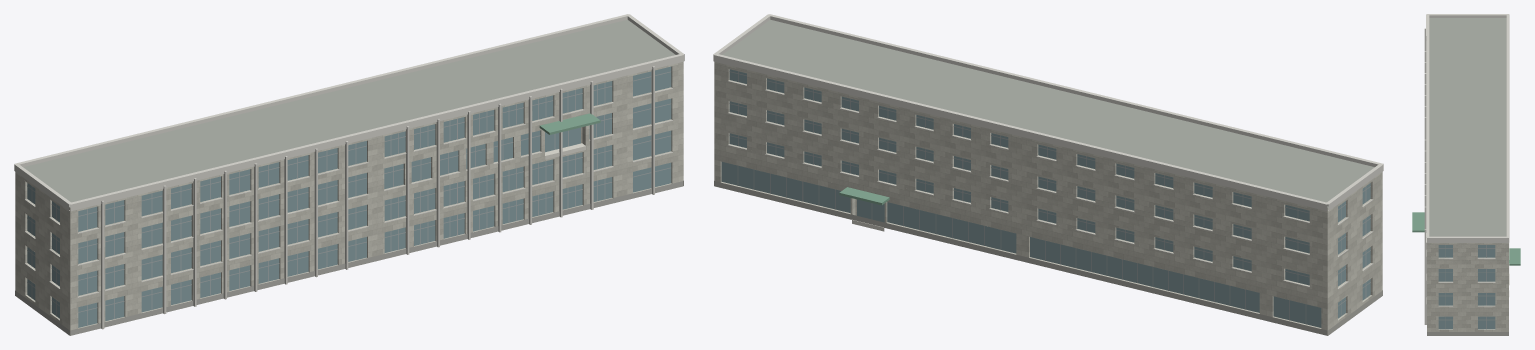
3 views of the same model, side by side, from view 1: azimuth 30°, elevation 25°; view 2: azimuth 150°, elevation 25°; view 3: azimuth 270°, elevation 25° (orthographic). The views are drawn at different scales.
Visible parts, largest first — view 1: jinri__wall, jinri__glass, jinri__roof, jinri__trim, jinri__frame, jinri__base, jinri__canopy; view 2: jinri__wall, jinri__roof, jinri__glass, jinri__trim, jinri__base, jinri__frame; view 3: jinri__roof, jinri__wall, jinri__trim, jinri__glass, jinri__canopy, jinri__base, jinri__frame.
Boxes of the visible parts, x1=… form: jinri__wall: x1=15, y1=62, x2=683, y2=335; jinri__glass: x1=27, y1=66, x2=671, y2=327; jinri__roof: x1=23, y1=19, x2=675, y2=207; jinri__trim: x1=14, y1=14, x2=684, y2=329; jinri__frame: x1=27, y1=71, x2=671, y2=325; jinri__base: x1=15, y1=181, x2=683, y2=335; jinri__canopy: x1=539, y1=113, x2=600, y2=134; jinri__wall: x1=714, y1=62, x2=1382, y2=335; jinri__roof: x1=722, y1=19, x2=1374, y2=207; jinri__glass: x1=721, y1=69, x2=1370, y2=327; jinri__trim: x1=713, y1=14, x2=1383, y2=289; jinri__base: x1=714, y1=181, x2=1382, y2=335; jinri__frame: x1=729, y1=71, x2=1370, y2=324; jinri__roof: x1=1429, y1=18, x2=1506, y2=236; jinri__wall: x1=1427, y1=243, x2=1508, y2=331; jinri__trim: x1=1424, y1=14, x2=1509, y2=324; jinri__glass: x1=1438, y1=245, x2=1495, y2=329; jinri__canopy: x1=1412, y1=212, x2=1520, y2=265; jinri__base: x1=1427, y1=332, x2=1508, y2=335; jinri__frame: x1=1438, y1=245, x2=1495, y2=329.
Bounding box in the file's own units: 72.45 × 15.2 × 14.78.
Materials: 10 (1 with a texture image).
